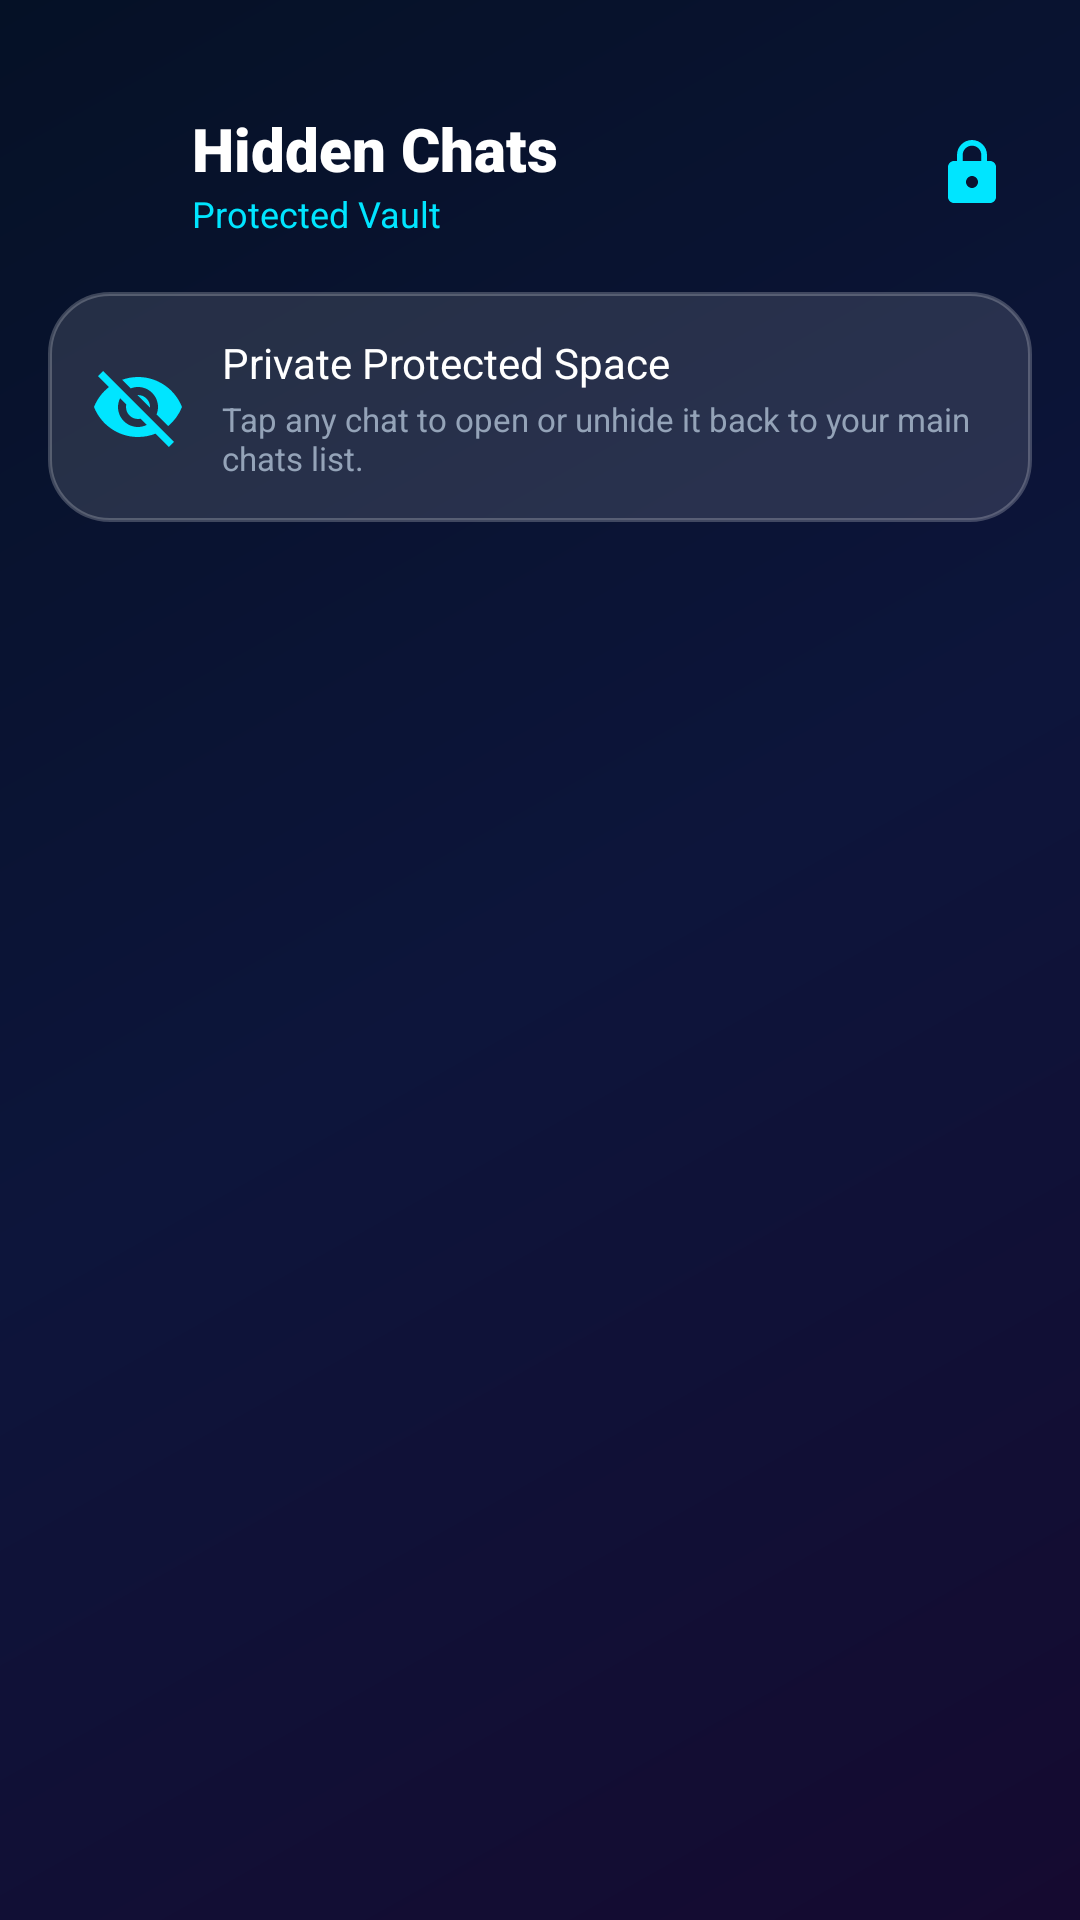

Where icons sit on this 1080 × 1920 app screen, as (x1, y1, x2, y2):
visibility off: (94, 371, 182, 447)
